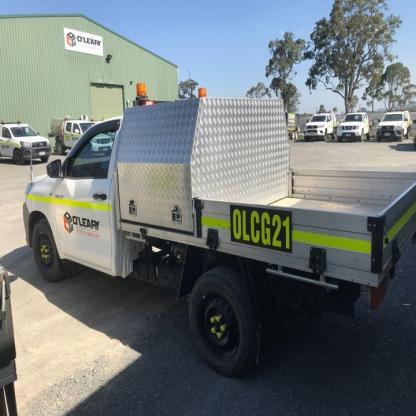light_vehicle: (21, 102, 415, 383), (0, 117, 51, 166), (299, 107, 334, 146), (378, 106, 411, 144), (335, 109, 370, 144)
